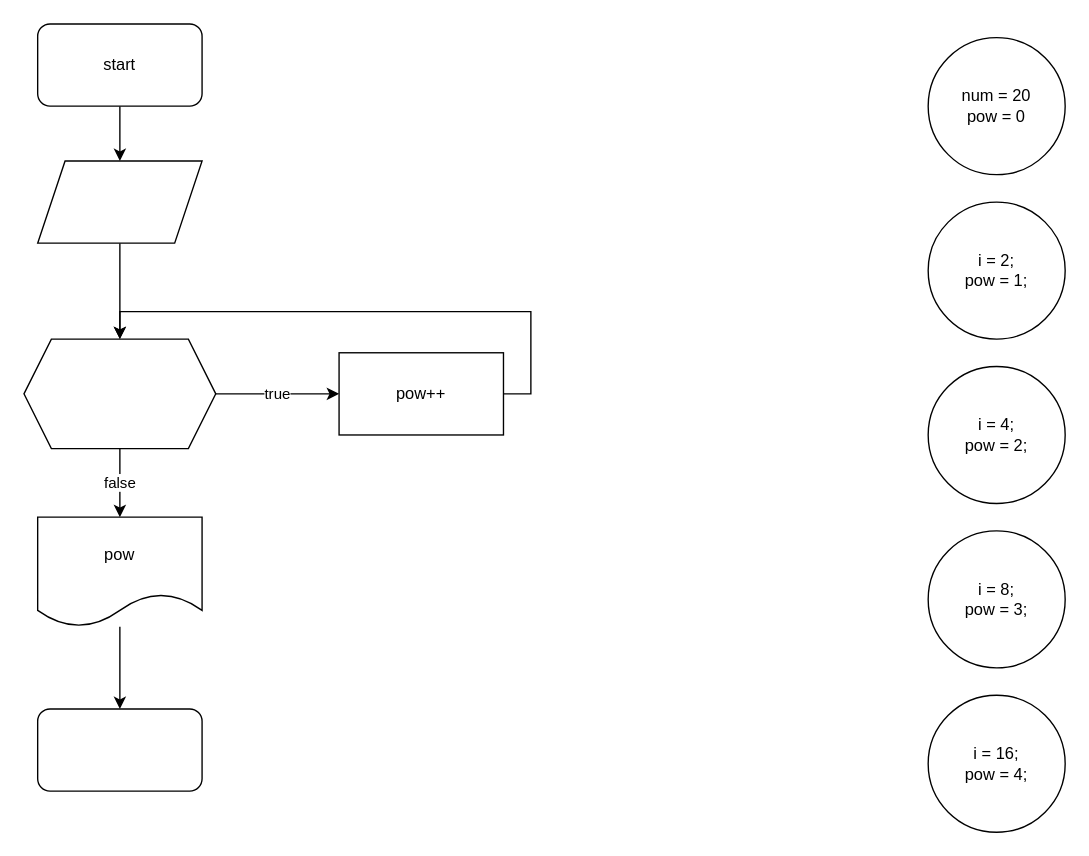
This 1089x856 diagram has some shape labels left out. The shapes that lost their labels are listed below. From the top down, each one's box as (x1, y1, x2, y2) in pixels, then its label:
(36, 160, 202, 243): int num; int pow = 0;
(23, 338, 216, 449): i = 2; i <= num; i *= 2
(36, 708, 202, 791): end
